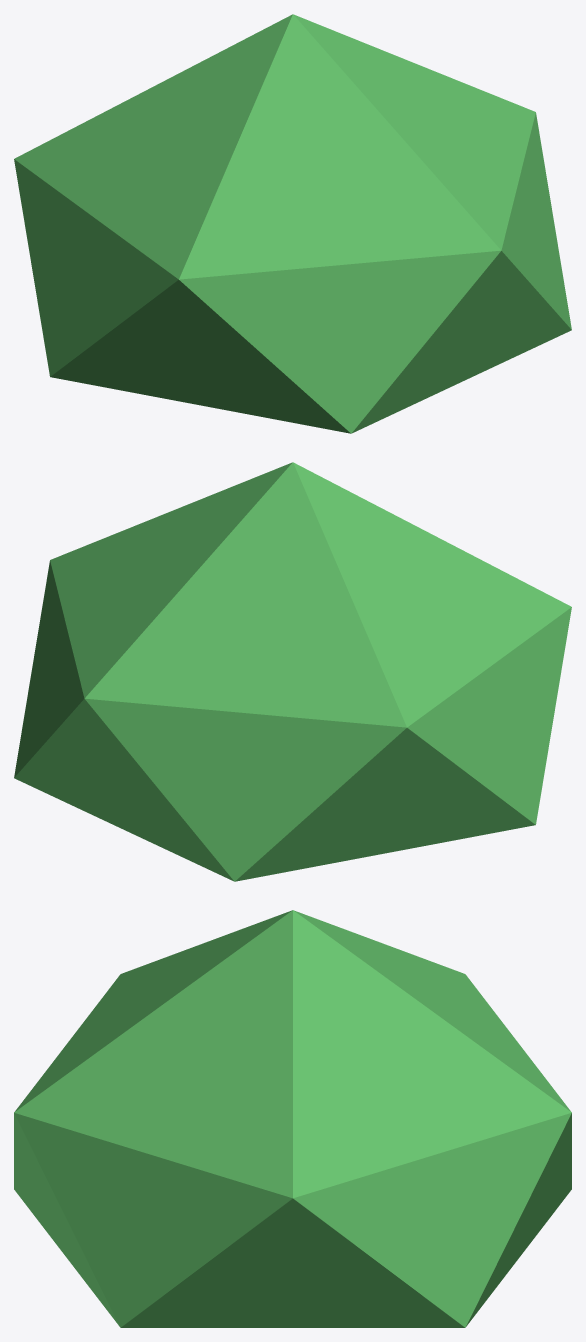
File: STA_Project_Vegetations_Bush_V5.fbx
3 renders of one model, top to bottom at view 1: azimuth 30°, elevation 25°; view 2: azimuth 150°, elevation 25°; view 3: azimuth 270°, elevation 25°, orthographic. The views are drawn at different scales.
Visible parts, largest first — view 1: Bush_V5; view 2: Bush_V5; view 3: Bush_V5.
Boxes of the visible parts, left/top/right/bottom form: Bush_V5: left=14, top=14, right=571, bottom=433; Bush_V5: left=14, top=462, right=571, bottom=881; Bush_V5: left=14, top=910, right=571, bottom=1327.
Size of the model in its own units: 109 by 71.25 by 103.
Materials: 1 (1 with a texture image).
